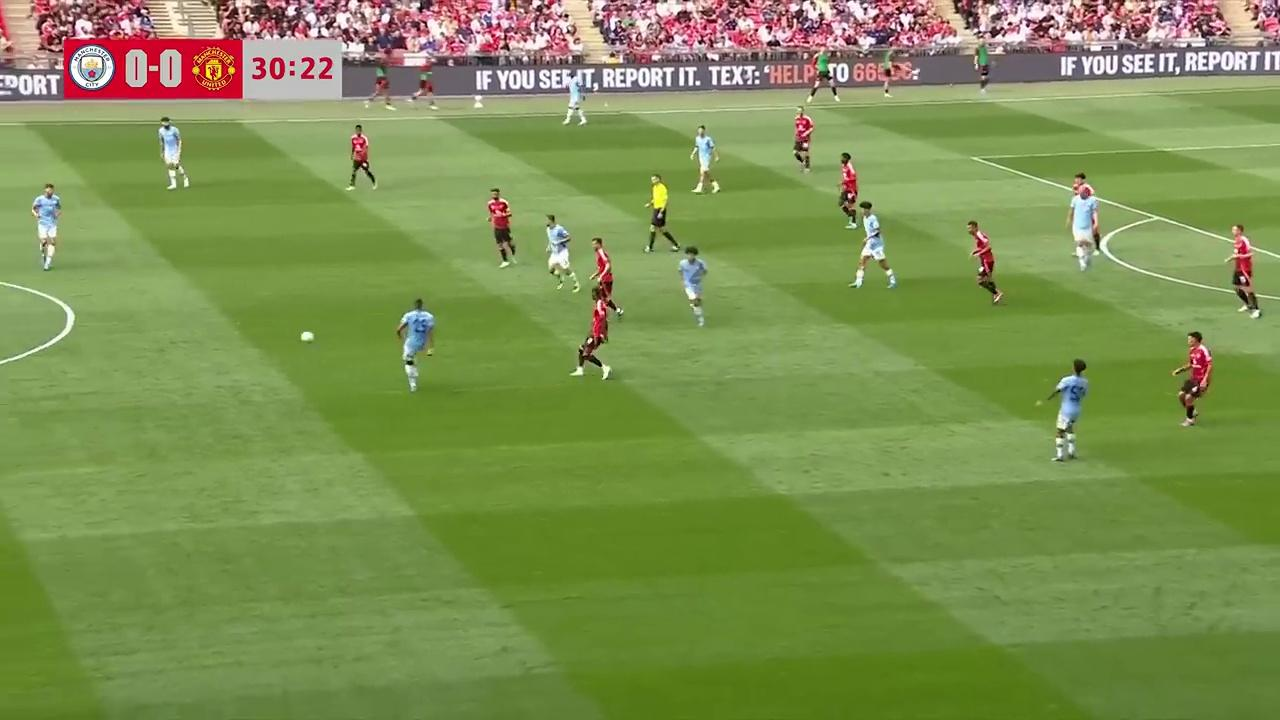ball: (299, 327, 316, 343)
player: (1040, 358, 1088, 462), (847, 203, 896, 289), (570, 291, 614, 380), (1171, 331, 1212, 426), (397, 296, 435, 393), (1225, 226, 1262, 318), (967, 220, 1002, 304), (1066, 183, 1099, 270), (31, 183, 61, 269), (544, 215, 578, 290), (678, 245, 708, 327), (590, 238, 621, 316), (1067, 171, 1099, 246), (486, 188, 516, 267), (157, 118, 189, 190), (690, 124, 720, 194), (347, 124, 377, 191), (837, 152, 859, 229), (792, 111, 813, 174), (562, 76, 586, 126)
referee: (643, 173, 680, 253)
